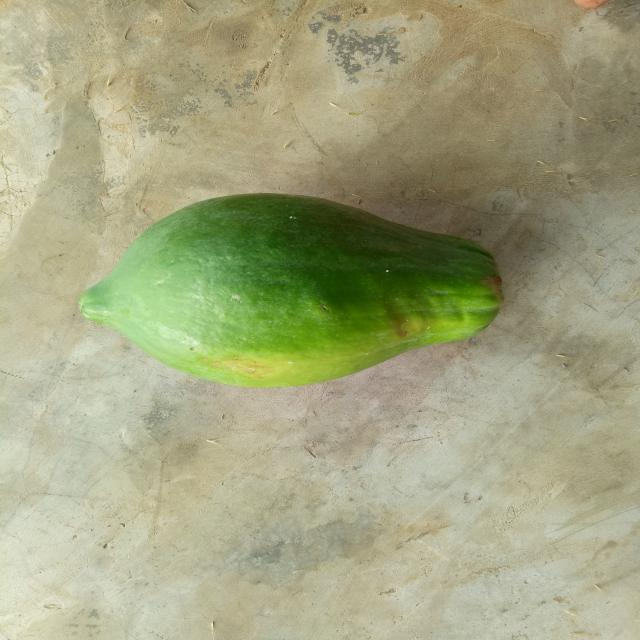Pepaya unrippen: (66, 188, 512, 395)
